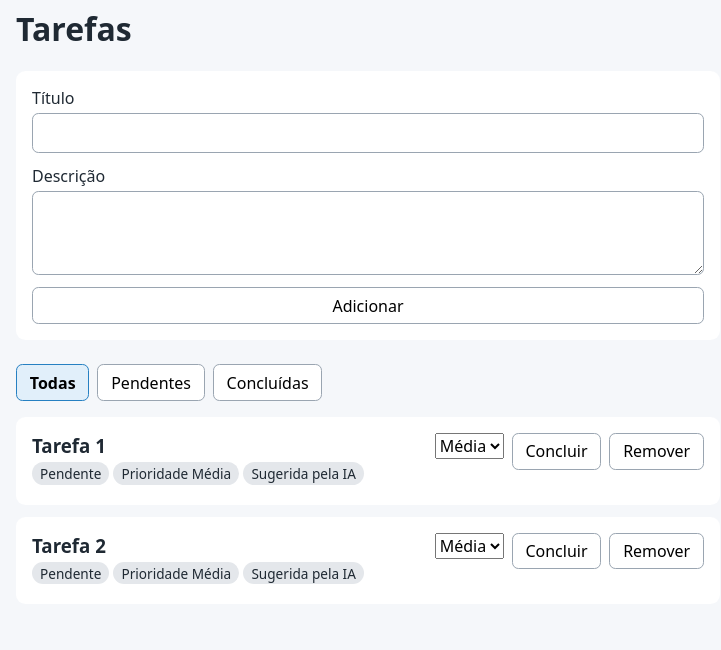
Test: App › remove uma tarefa depois da confirmação
Click the button "Remover" in the row of "Tarefa 1" at (657, 451), box left=609, top=433, right=704, bottom=470
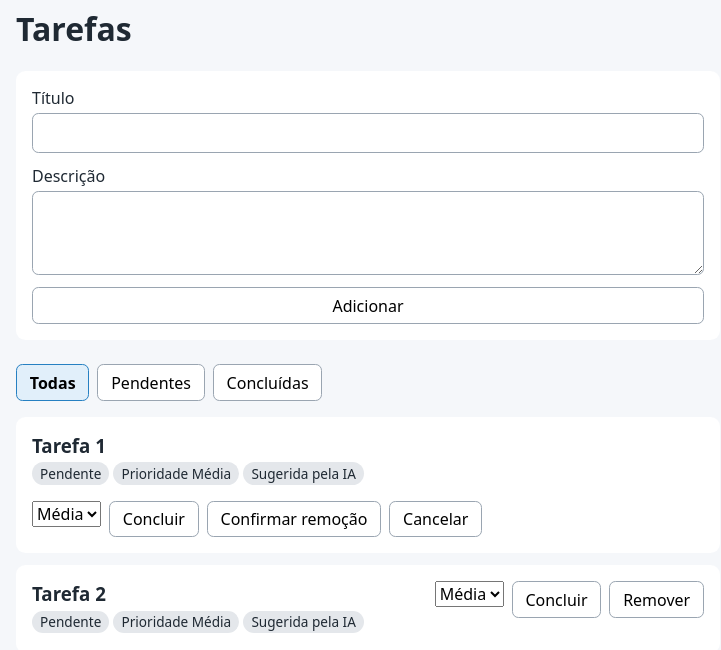
Click the button "Confirmar remoção" at (294, 519), box left=207, top=501, right=381, bottom=537
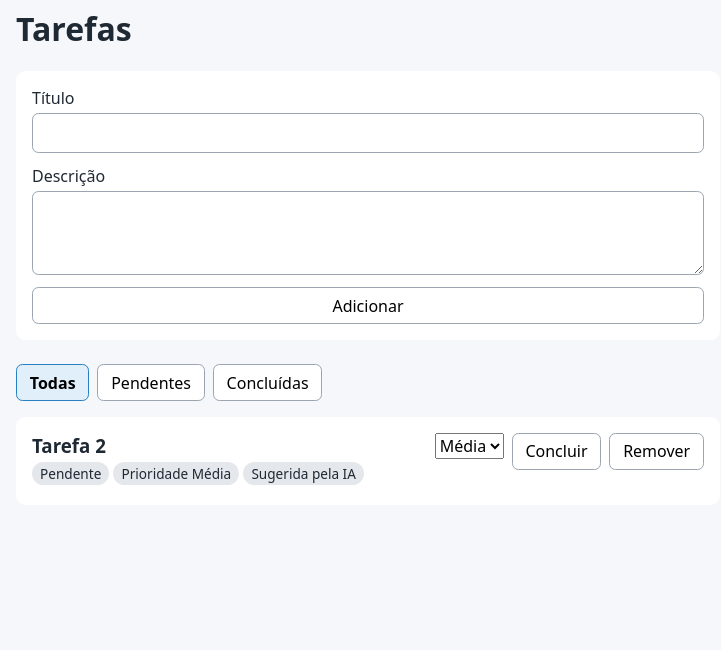
Expected: the heading "Tarefa 2" is shown, left=32, top=433, right=106, bottom=458
Expected: the heading "Tarefa 1" is gone
